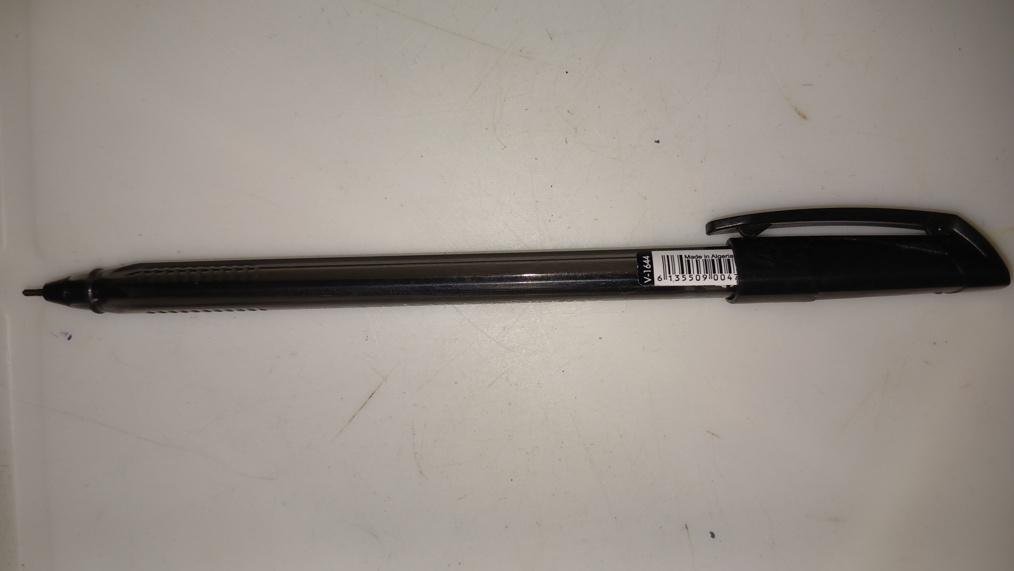pen: (19, 204, 1012, 314)
